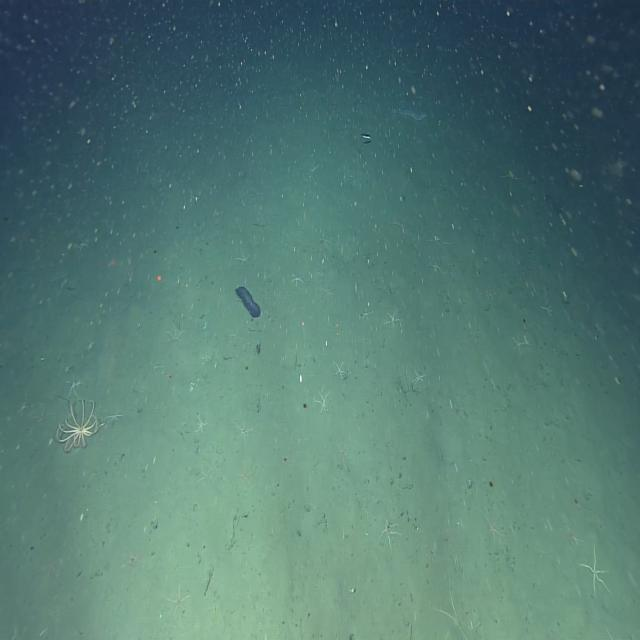Brittle Star: (577, 541, 614, 602), (480, 508, 508, 547), (509, 329, 530, 360)
Not Brittle Star: (54, 393, 105, 455), (234, 281, 262, 320), (397, 104, 428, 123)
